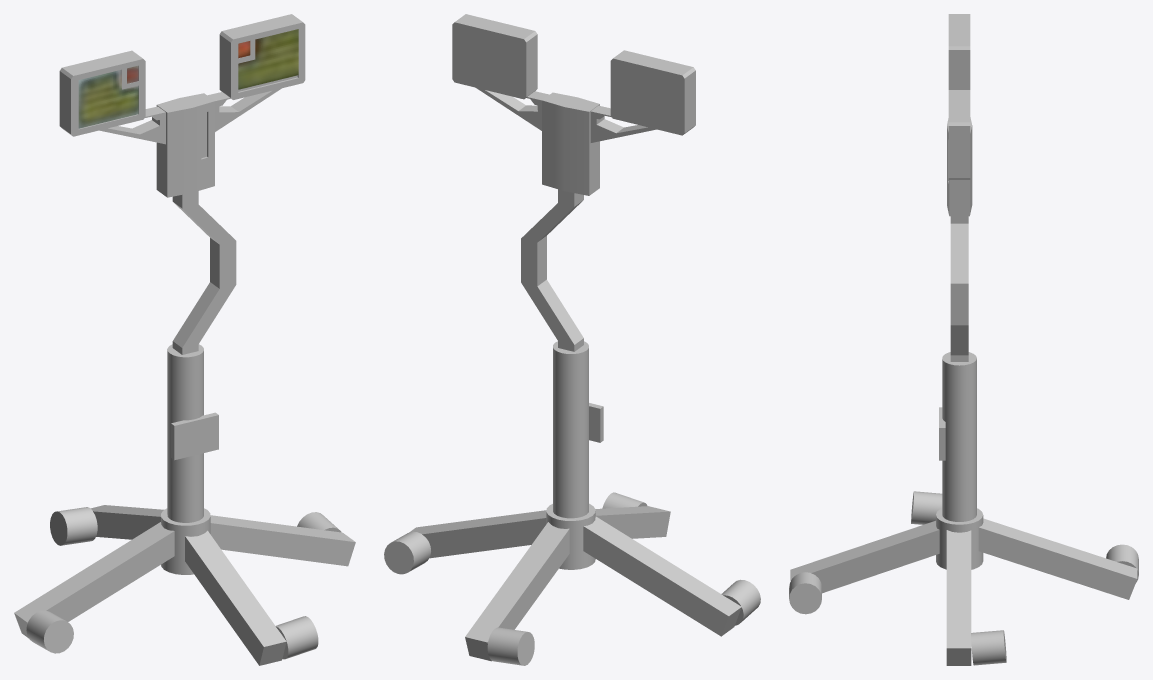
File: Hanging_Device.fbx
3 views of the same model, side by side, from view 1: azimuth 30°, elevation 25°; view 2: azimuth 150°, elevation 25°; view 3: azimuth 270°, elevation 25° (orthographic). The views are drawn at different scales.
Parts seen in each view (by area): view 1: pCube12, pCube9, pCube1, pCube10, pCylinder1, polySurface3, pCube3, pCube2, pCube11, pPlane1, pPlane2, pCube13 (+3 smaller); view 2: pCube12, pCube11, pCylinder1, pCube2, pCube3, pCube10, pCube1, polySurface3, pCube9, pCylinder6, pCylinder2, pCylinder3 (+1 smaller); view 3: pCube11, pCube9, pCylinder1, pCube10, polySurface3, pCube3, pCube2, pCylinder6, pCube1, pCube12.
Boxes of the visible parts, <box> form: pCube12: <box>14,522,174,653</box>; pCube9: <box>185,530,318,665</box>; pCube1: <box>156,93,214,197</box>; pCube10: <box>210,512,355,566</box>; pCylinder1: <box>167,344,203,522</box>; polySurface3: <box>172,191,236,354</box>; pCube3: <box>219,14,305,99</box>; pCube2: <box>59,50,145,136</box>; pCube11: <box>50,505,164,545</box>; pPlane1: <box>78,65,138,128</box>; pPlane2: <box>238,29,298,89</box>; pCube13: <box>171,412,218,460</box>; pCube12: <box>583,516,760,636</box>; pCube11: <box>465,522,569,665</box>; pCylinder1: <box>553,341,588,518</box>; pCube2: <box>610,50,695,135</box>; pCube3: <box>452,14,537,99</box>; pCube10: <box>384,510,546,574</box>; pCube1: <box>542,92,599,195</box>; polySurface3: <box>521,189,583,351</box>; pCube9: <box>595,492,670,538</box>; pCylinder6: <box>546,503,595,569</box>; pCylinder2: <box>590,105,656,142</box>; pCylinder3: <box>476,88,549,130</box>; pCube11: <box>978,518,1138,599</box>; pCube9: <box>789,520,939,614</box>; pCylinder1: <box>942,352,976,521</box>; pCube10: <box>946,530,1006,665</box>; polySurface3: <box>950,216,968,361</box>; pCube3: <box>948,90,970,179</box>; pCube2: <box>948,14,970,89</box>; pCylinder6: <box>936,508,983,569</box>; pCube1: <box>947,117,972,216</box>; pCube12: <box>911,491,942,524</box>.
Bounding box in the file's own units: 6.96 × 11.21 × 6.73.
